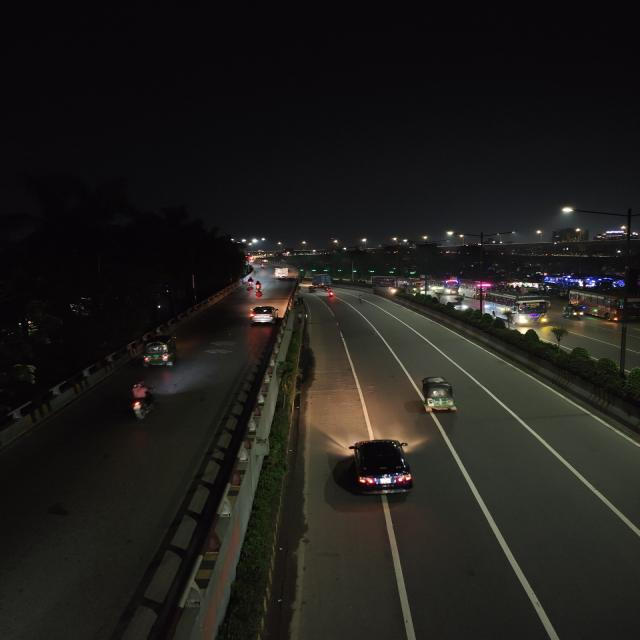bus: (568, 288, 639, 324), (489, 290, 552, 326), (459, 281, 490, 298), (431, 280, 460, 296), (401, 278, 426, 294), (371, 276, 396, 288)
car: (338, 433, 428, 501), (246, 304, 280, 324)
cng: (418, 375, 462, 416), (139, 333, 182, 369), (561, 304, 586, 320)
motorcycle: (124, 380, 161, 423), (252, 285, 264, 299), (326, 290, 337, 300), (252, 280, 263, 288)
pedestrian: (356, 293, 365, 304)
truck: (313, 275, 333, 287), (273, 267, 290, 280)
